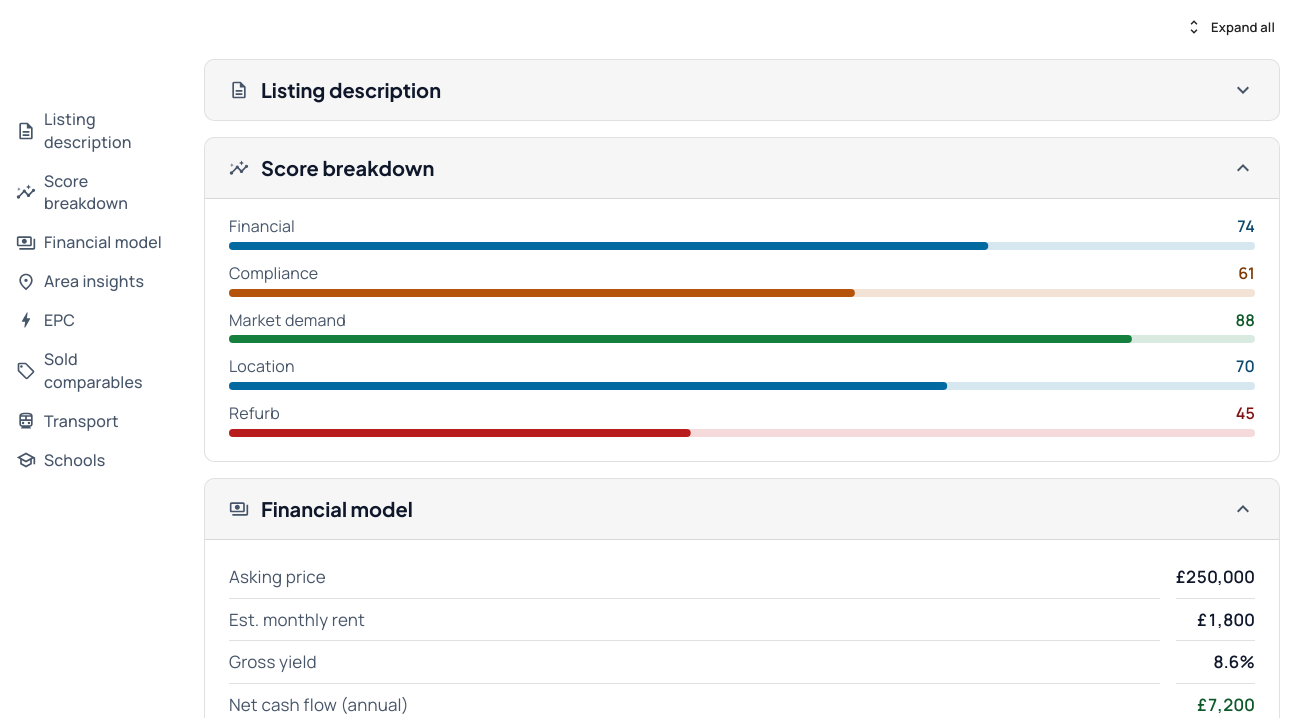
it: DealReport › expands everything at once, then collapses everything
Click the button "Expand all".
click(1231, 27)  # box [1182,12,1280,43]
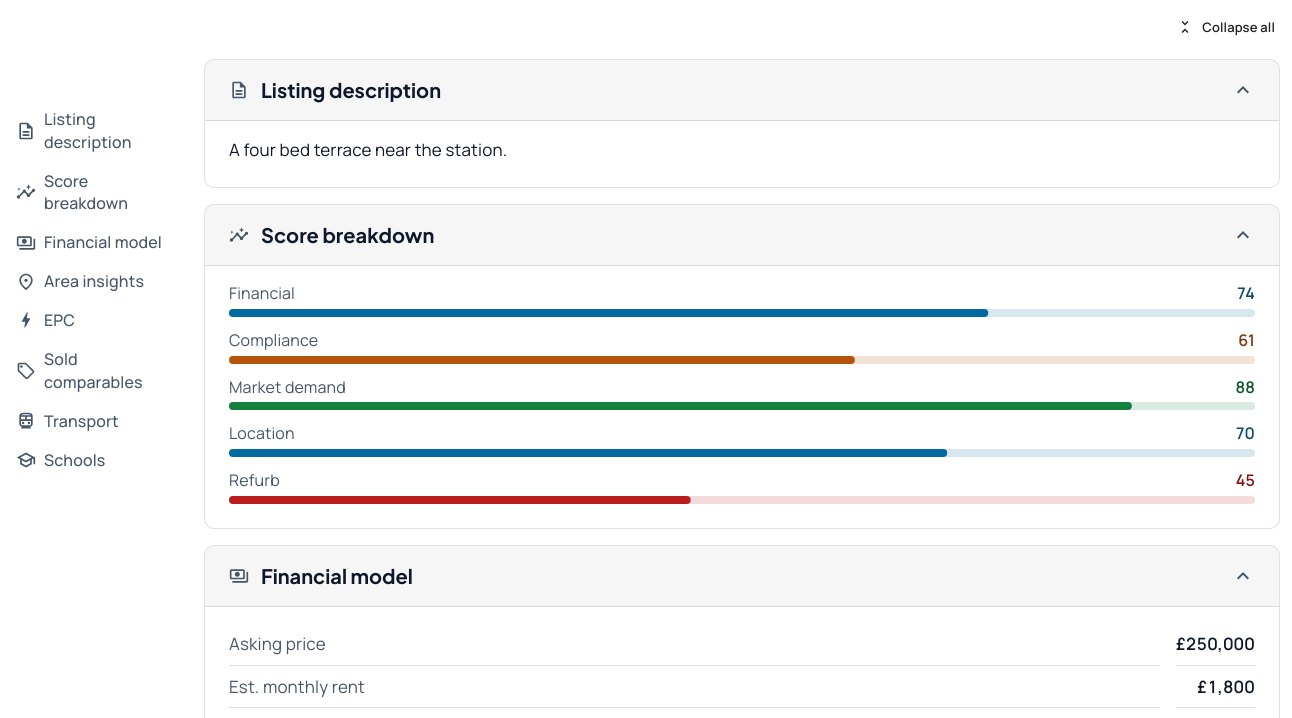
Click the button "Collapse all".
click(1227, 27)  # box [1173,12,1280,43]
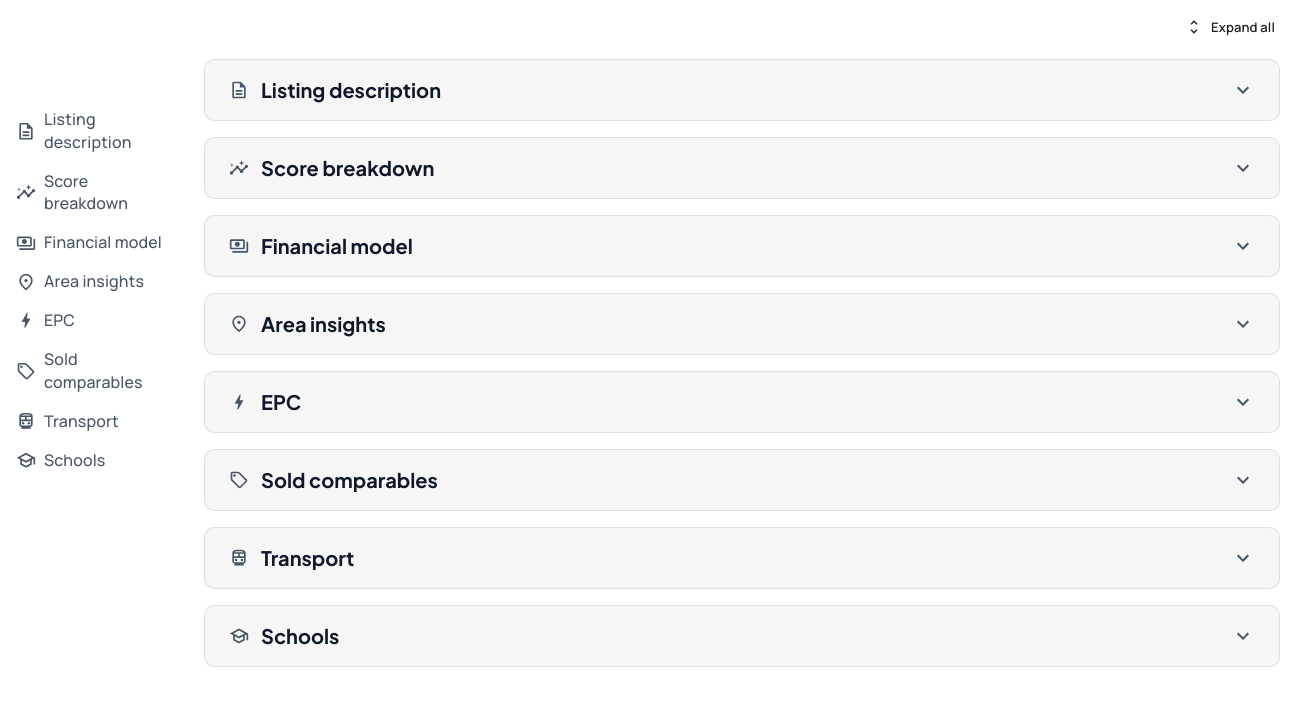
Expected: the button "EPC" is collapsed, [205,372,1279,432]
Expected: the button "Financial model" is collapsed, [205,216,1279,276]
